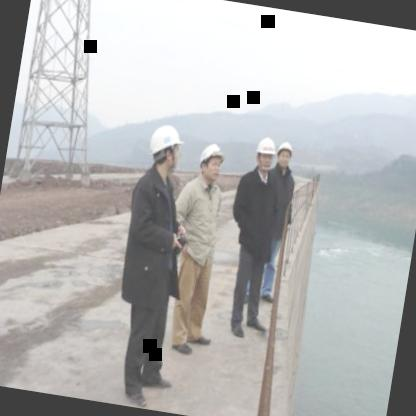helmet: (140, 116, 188, 184), (195, 138, 227, 184), (252, 132, 279, 172), (274, 140, 296, 170)
